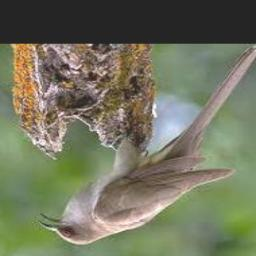Cuckoo: (38, 46, 256, 244)
